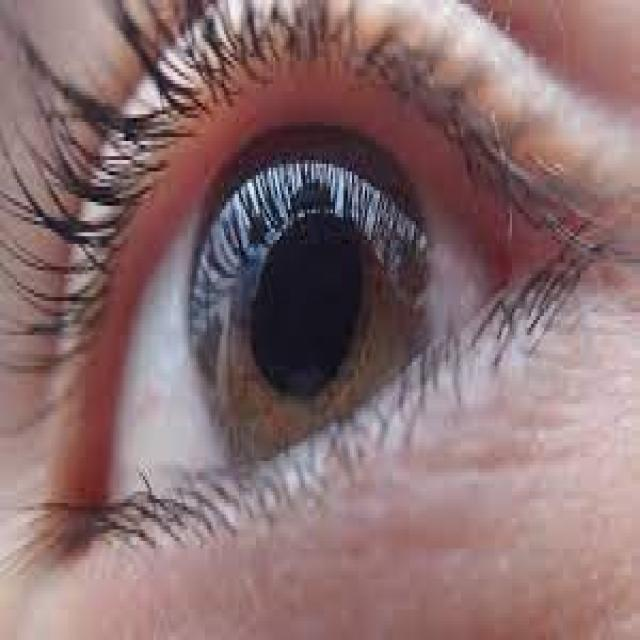Eyes-iris: (181, 106, 437, 486)
